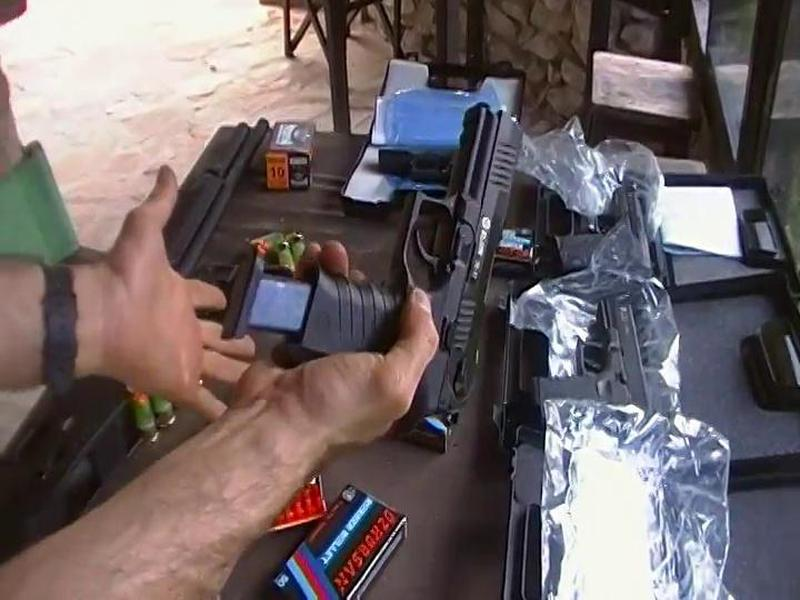Pistola: (268, 78, 596, 489)
